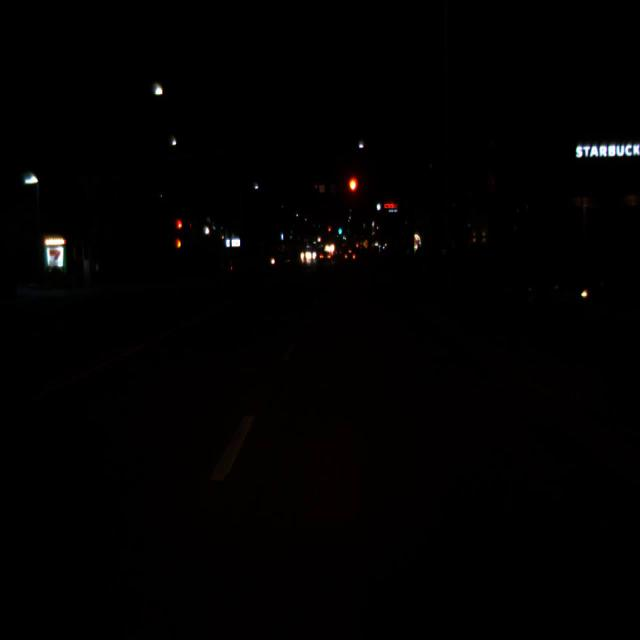go: (338, 224, 342, 234)
go traffic light: (338, 224, 342, 234)
stop: (348, 175, 358, 208), (328, 227, 331, 234)
stop left: (177, 220, 183, 238), (314, 185, 318, 191), (328, 227, 331, 234)
stop left traffic light: (177, 220, 183, 238), (314, 185, 318, 191), (328, 227, 331, 234)
stop traffic light: (348, 175, 358, 208), (328, 227, 331, 234)
